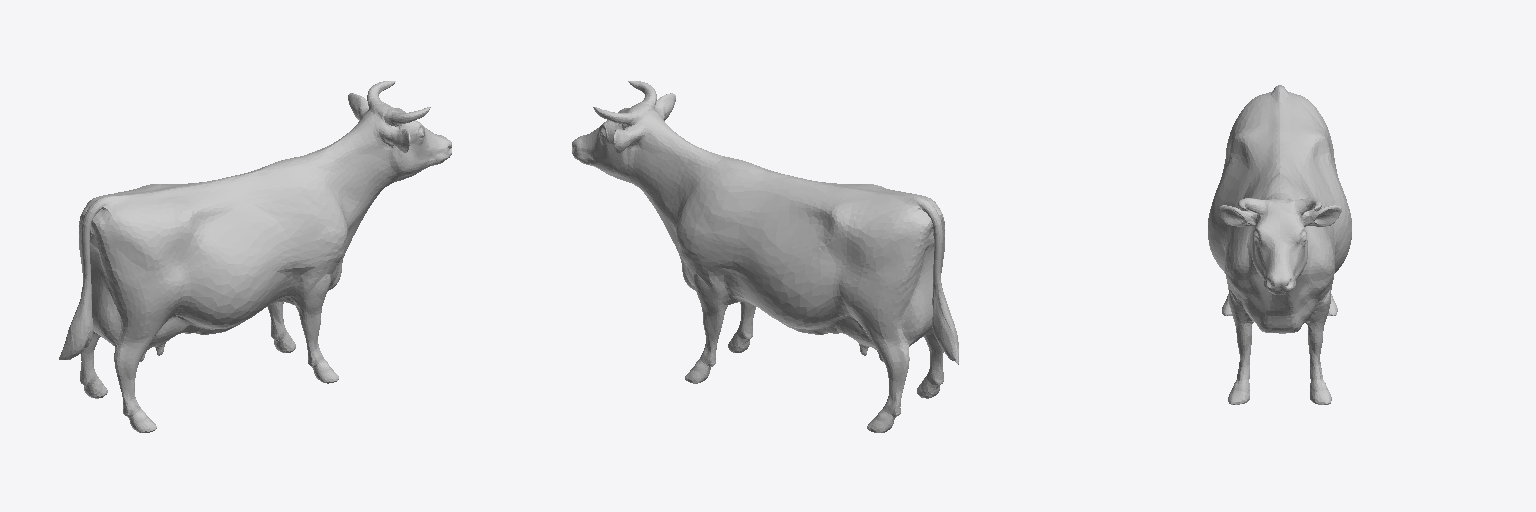
The model's file is cow1.obj.
The picture shows the model from 3 angles: view 1: azimuth 30°, elevation 25°; view 2: azimuth 150°, elevation 25°; view 3: azimuth 270°, elevation 25°; orthographic projection.
Visible parts, largest first — view 1: cow; view 2: cow; view 3: cow.
Boxes of the visible parts, x1=… form: cow: x1=59, y1=81, x2=451, y2=432; cow: x1=572, y1=81, x2=958, y2=432; cow: x1=1208, y1=85, x2=1351, y2=404.
Size of the model in its own units: 4.98 by 3.05 by 1.61.